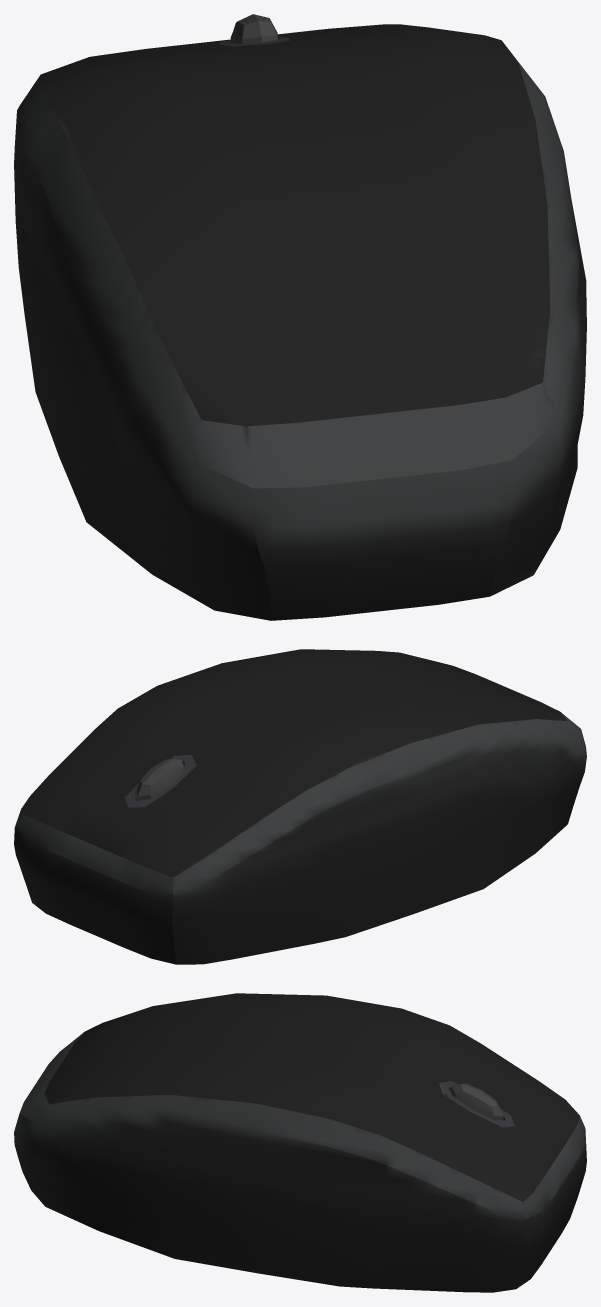
Rendered from ScrivaniaCiroMouse.gltf.
3 renders of one model, top to bottom at view 1: azimuth 30°, elevation 25°; view 2: azimuth 150°, elevation 25°; view 3: azimuth 270°, elevation 25°, orthographic. The views are drawn at different scales.
Visible parts, largest first — view 1: Ciro Mouse; view 2: Ciro Mouse; view 3: Ciro Mouse.
Part boxes in pixels (left/top/right/bottom): Ciro Mouse: left=14, top=14, right=586, bottom=620; Ciro Mouse: left=14, top=649, right=586, bottom=964; Ciro Mouse: left=14, top=993, right=586, bottom=1292.
Bounding box in the file's own units: 0.062 × 0.0291 × 0.0864.
Materials: 1 (1 with a texture image).
